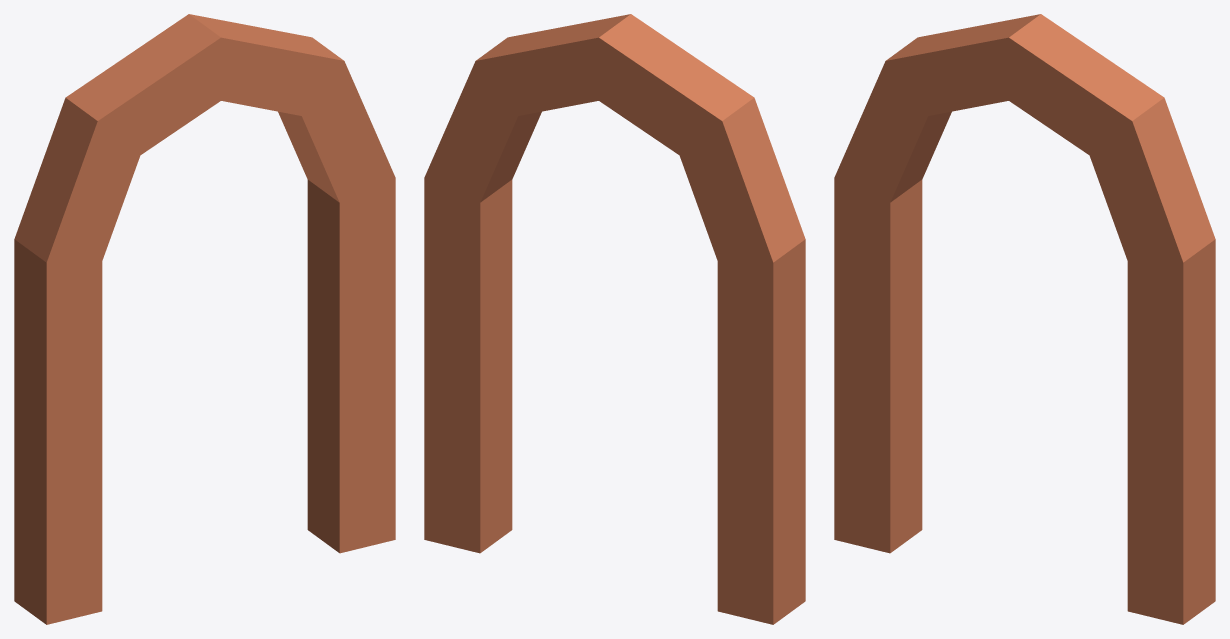
The model's file is window-brown-round-top.obj.
3 views of the same model, side by side, from view 1: azimuth 30°, elevation 25°; view 2: azimuth 150°, elevation 25°; view 3: azimuth 330°, elevation 25° (orthographic).
Bounding box in the file's own units: 0.3125 × 0.4663 × 0.05.
